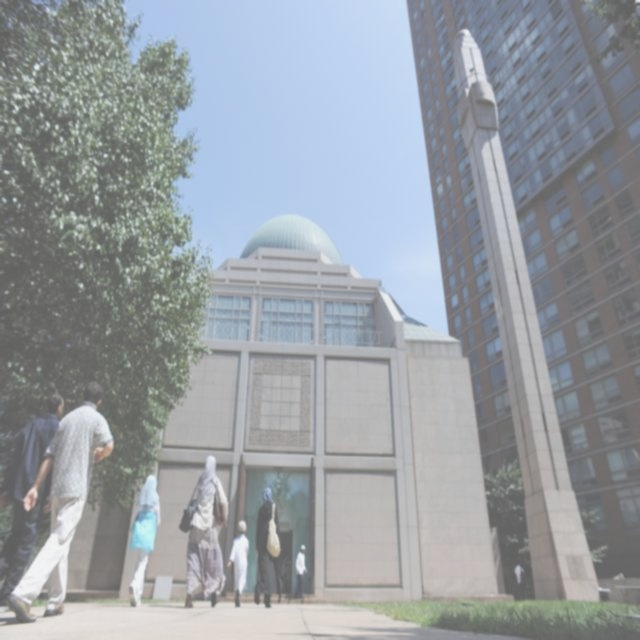pessoa: (2, 379, 118, 634), (178, 453, 230, 611), (126, 473, 162, 608), (254, 487, 282, 609), (226, 518, 251, 610), (294, 544, 308, 600), (511, 559, 527, 602)
